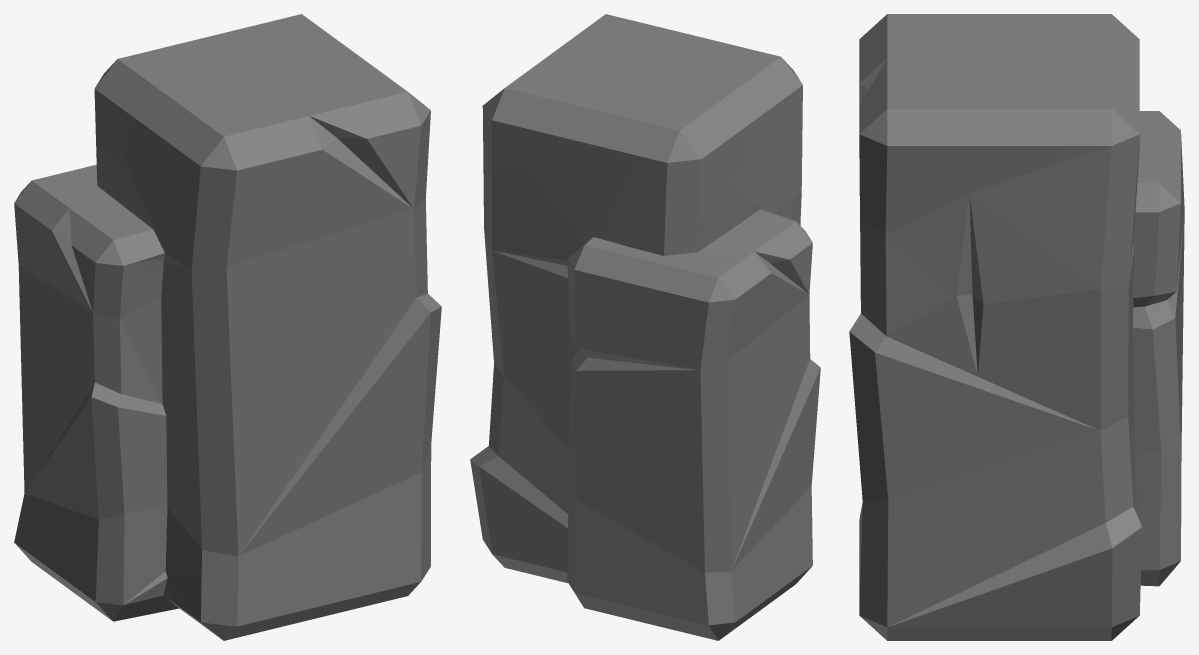
The model's file is model_polytope_rock_tall01.fbx.
The picture shows the model from 3 angles, left to right: view 1: azimuth 30°, elevation 25°; view 2: azimuth 150°, elevation 25°; view 3: azimuth 270°, elevation 25°; orthographic projection. The views are drawn at different scales.
Visible parts, largest first — view 1: model_polytope_rock_tall01; view 2: model_polytope_rock_tall01; view 3: model_polytope_rock_tall01.
Boxes of the visible parts, x1=… form: model_polytope_rock_tall01: x1=14, y1=14, x2=441, y2=640; model_polytope_rock_tall01: x1=470, y1=14, x2=820, y2=640; model_polytope_rock_tall01: x1=849, y1=14, x2=1184, y2=640.
Size of the model in its own units: 438 by 686 by 392.
